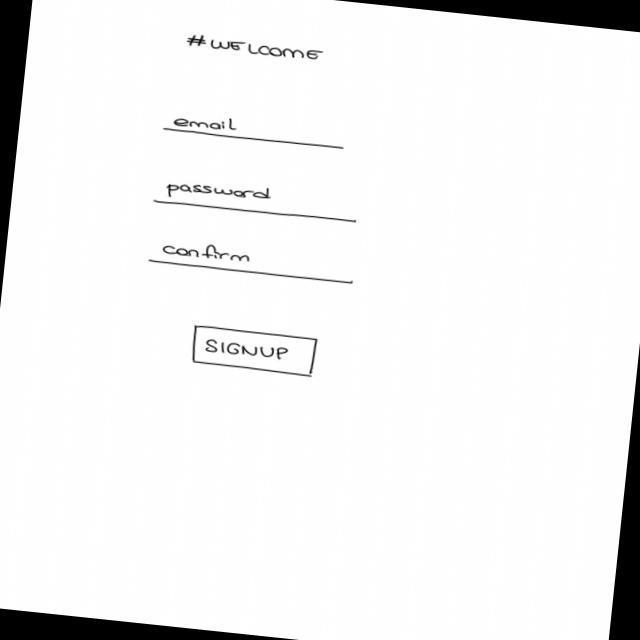button: (190, 324, 321, 380)
input: (152, 173, 362, 226), (148, 235, 358, 287), (161, 110, 349, 151)
label: (182, 31, 326, 64)
